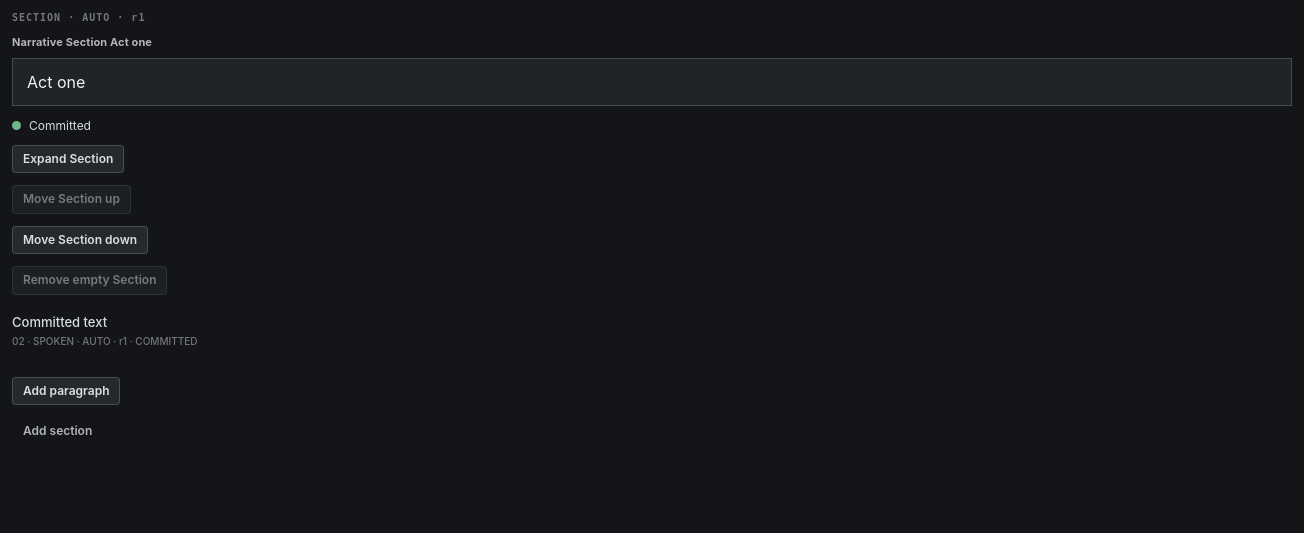
Test: CreatorNarrativeWriter › keeps Section storage failures private and retries the child branch
What coordinates should you click on to do the following:
click the button "Expand Section"
I would click on:
 (68, 159)
Its box is [12,145,124,173].
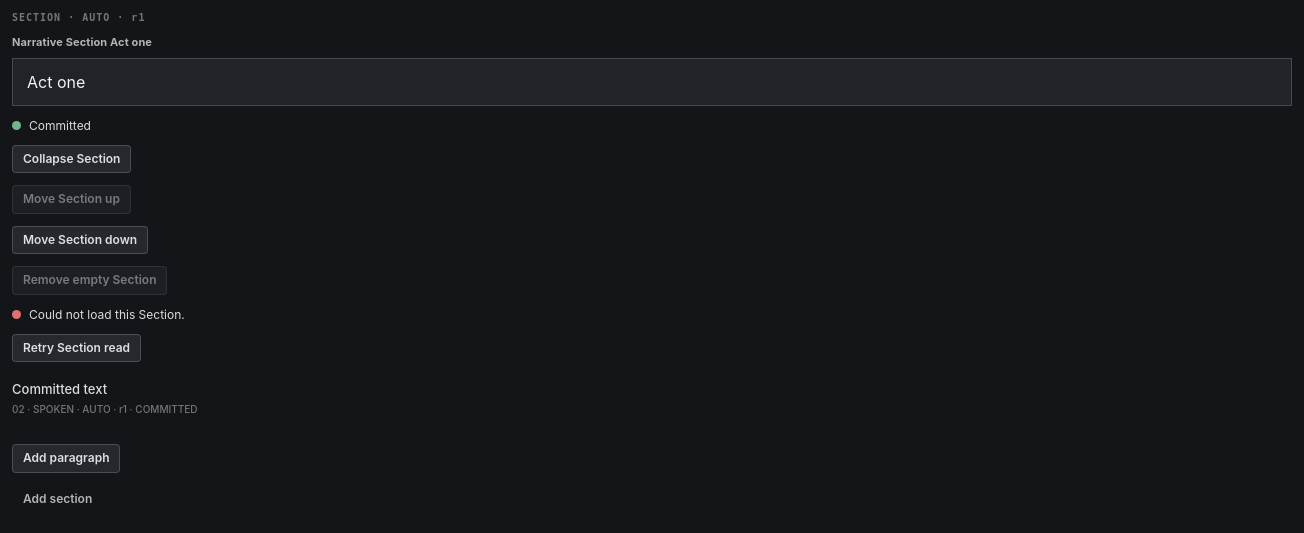
Check: the text "Could not load this Section." is shown, box [29,307,185,322]
What coordinates should you click on to do the following:
click the button "Retry Section read"
I would click on:
 (77, 348)
Its box is [12,334,141,362].
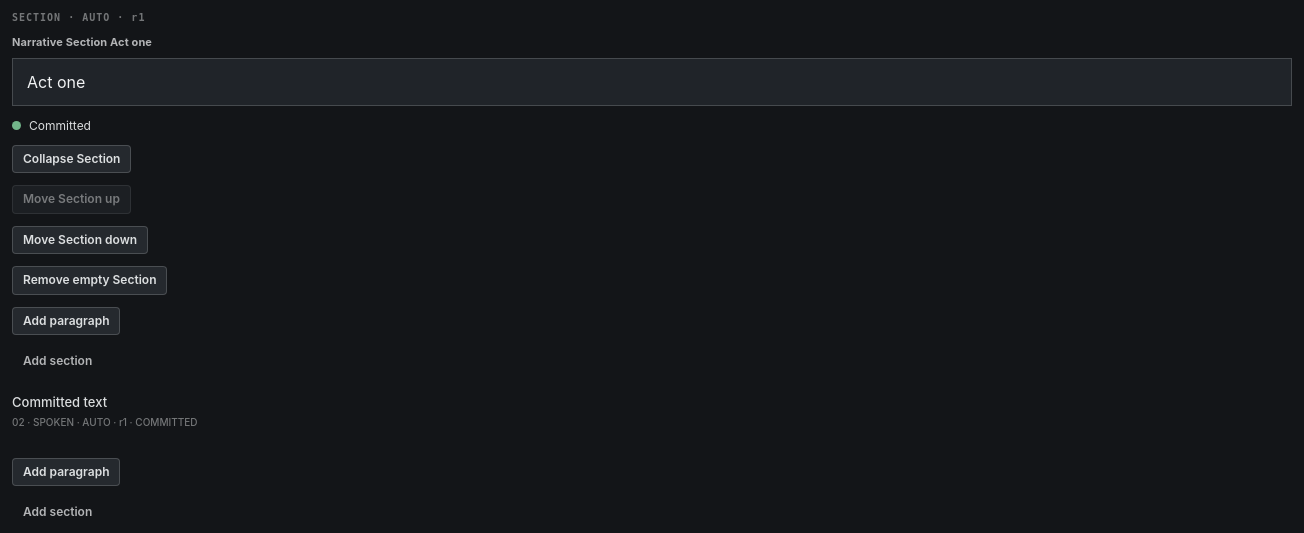
Check: the text "Could not load this Section." is gone
